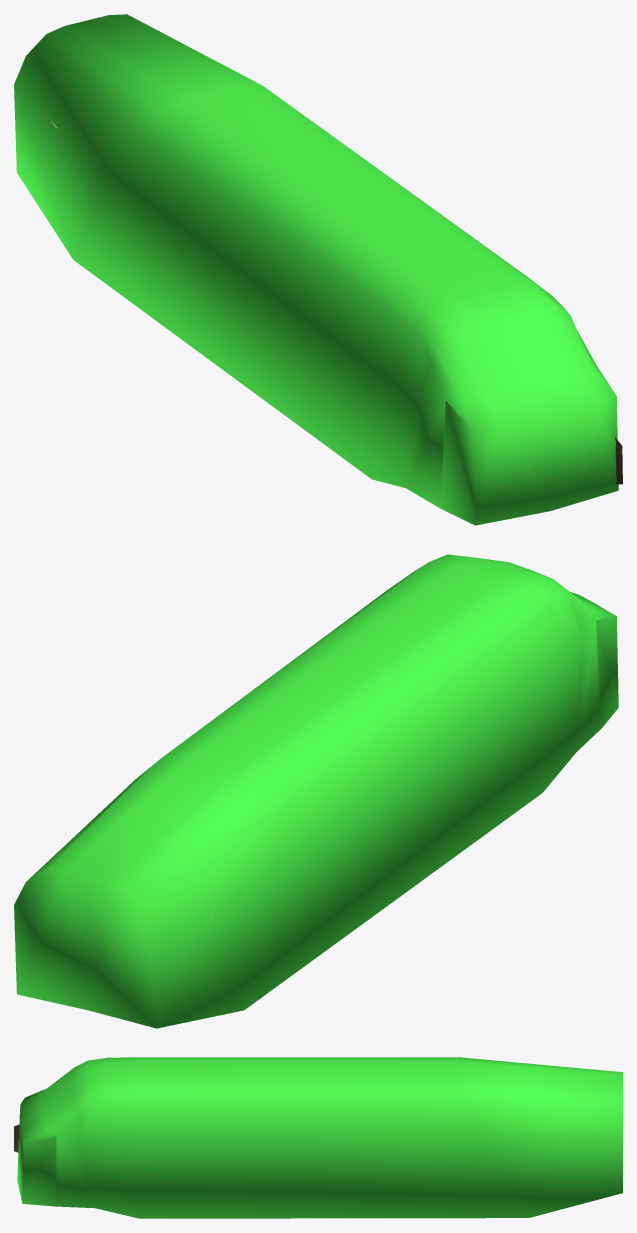
The model's file is KINGAIR_350I_interior_LOD3.gltf.
The picture shows the model from 3 angles, top to bottom: view 1: azimuth 30°, elevation 25°; view 2: azimuth 150°, elevation 25°; view 3: azimuth 270°, elevation 25°; orthographic projection. The views are drawn at different scales.
Visible parts, largest first — view 1: OCCLUDER; view 2: OCCLUDER; view 3: OCCLUDER.
Boxes of the visible parts, x1,y1,x2,y2 form: OCCLUDER: (14,14,618,525); OCCLUDER: (14,554,618,1028); OCCLUDER: (17,1057,622,1218).
Size of the model in its own units: 1.6 by 1.66 by 7.55.
